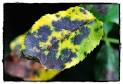Diseased_Leaves: (7, 52, 38, 79), (39, 53, 64, 71), (52, 20, 85, 33), (67, 38, 89, 50), (37, 27, 52, 41), (23, 35, 37, 50)
